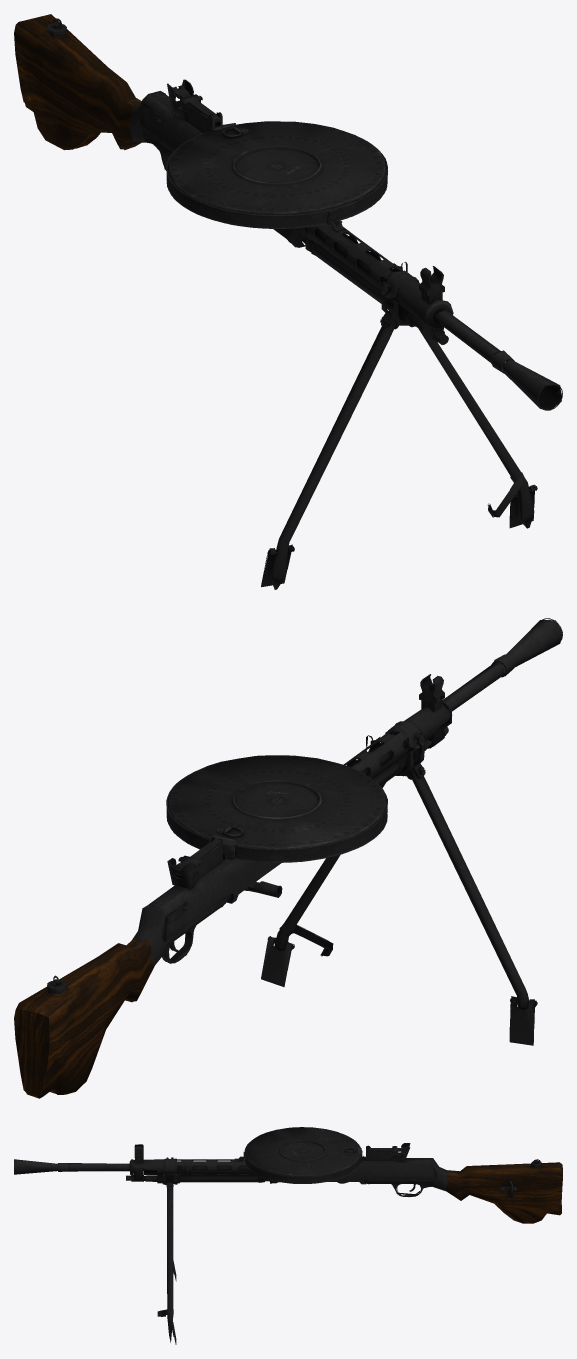
3 renders of one model, top to bottom at view 1: azimuth 30°, elevation 25°; view 2: azimuth 150°, elevation 25°; view 3: azimuth 270°, elevation 25°, orthographic. The views are drawn at different scales.
Parts seen in each view (by area): view 1: Object001, Sov_DP28; view 2: Object001, Sov_DP28; view 3: Object001, Sov_DP28.
Boxes of the visible parts, left/top/right/bottom form: Object001: left=14, top=14, right=562, bottom=589; Sov_DP28: left=166, top=121, right=387, bottom=228; Object001: left=14, top=618, right=562, bottom=1098; Sov_DP28: left=166, top=755, right=387, bottom=862; Object001: left=14, top=1143, right=562, bottom=1344; Sov_DP28: left=241, top=1127, right=362, bottom=1183.
Size of the model in its own units: 275 by 301 by 905.
